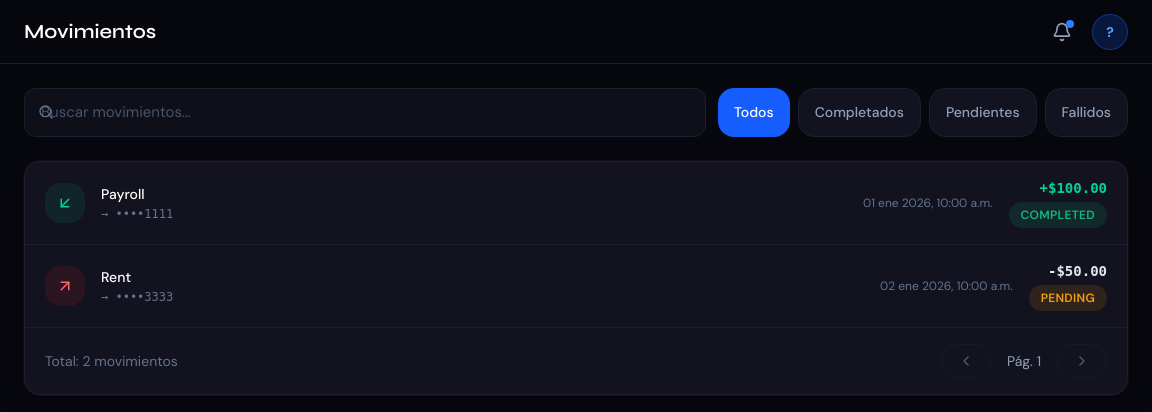
Test: TransactionsPage › search with no matches shows the "Sin movimientos" empty state
Expected: the text "Payroll" is shown, [101,184,145,202]
Type "nonexistent" into the field with placeholder "Buscar movimientos…" at (365, 112), box [24,88,706,136]
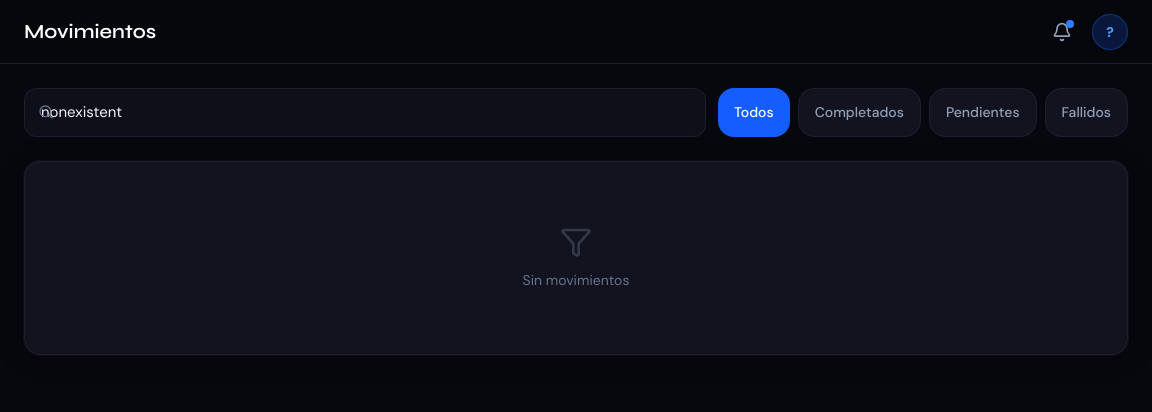
Now the text "Sin movimientos" is shown, box [523,270,630,290]
